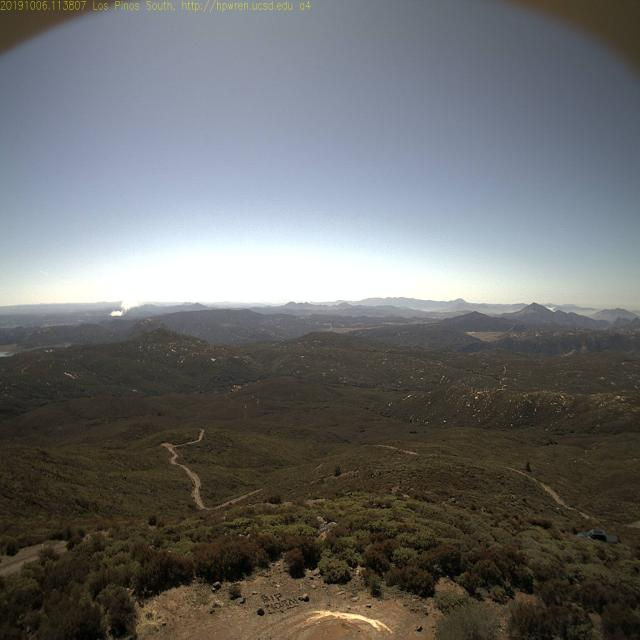smoke: (104, 292, 153, 320), (540, 302, 560, 312)
